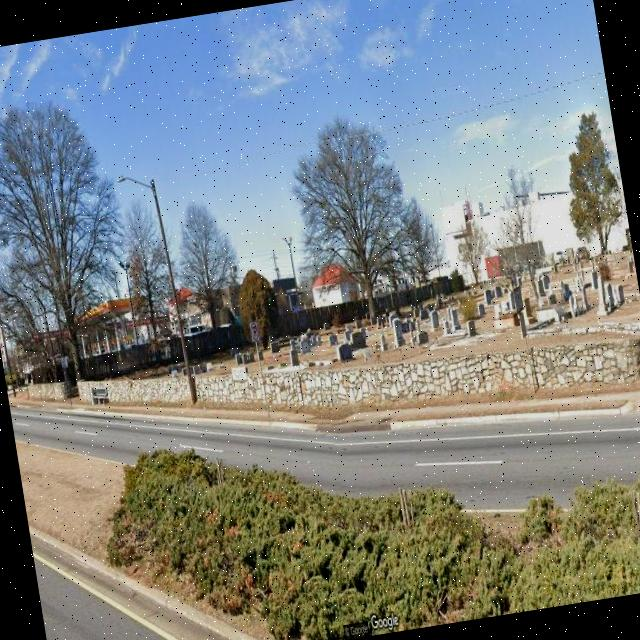seating: (92, 386, 111, 408)
trash_can: (89, 387, 97, 405)
